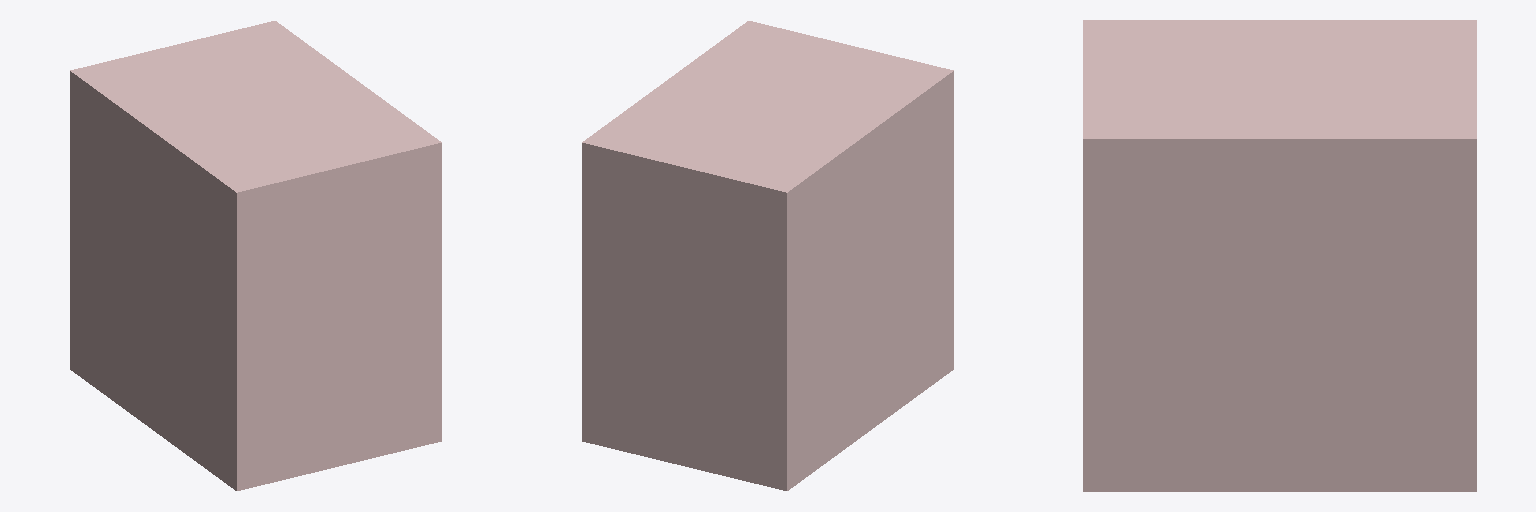
The robot description file, URDF, robot "box.urdf":
<?xml version="1.0" ?>
<robot name="box.urdf">
  <link name="baseLink">
    <contact>
      <lateral_friction value="1.0"/>
      <rolling_friction value="0.0001"/>
      <inertia_scaling value="3.0"/>
    </contact>
    <inertial>
      <origin rpy="0 0 0" xyz="0 0 0"/>
       <mass value="0.1"/>
       <inertia ixx="1" ixy="0" ixz="0" iyy="1" iyz="0" izz="1"/>
    </inertial>
    <visual>
      <origin rpy="0 0 0" xyz="0 0 0"/>
      <geometry>
        <!-- <box size="0.182 0.256 0.253"/> -->
        <mesh filename="box/box.obj" scale="0.182 0.256 0.253"/>
      </geometry>
      <material name="white">
        <color rgba="0.9 0.8 0.8 1"/>
      </material>
    </visual>
    <collision>
      <origin rpy="0 0 0" xyz="0 0 0"/>
      <geometry>
        <mesh filename="box/box.obj" scale="0.182 0.256 0.253"/>
	 	    <!-- <box size="0.182 0.256 0.253"/> -->
      </geometry>
    </collision>
  </link>
</robot>

--- Facts derived from the render (not from the file) ---
Views: 3 orthographic renders of the robot side by side, from view 1: azimuth 30°, elevation 25°; view 2: azimuth 150°, elevation 25°; view 3: azimuth 270°, elevation 25°.
Model box.urdf with 1 links and 0 joints (none), rooted at baseLink, posed every joint at zero.
Links seen in each view (by area): view 1: baseLink; view 2: baseLink; view 3: baseLink.
Link boxes in pixels (box(x1,y1,x2,y2)): baseLink: box(70, 21, 441, 490); baseLink: box(582, 21, 953, 490); baseLink: box(1083, 20, 1476, 491).
Size in the robot's own frame: 0.182 by 0.256 by 0.253 metres.
Meshes: 1 distinct files referenced, 1 mesh visuals loaded (1 OBJ).
